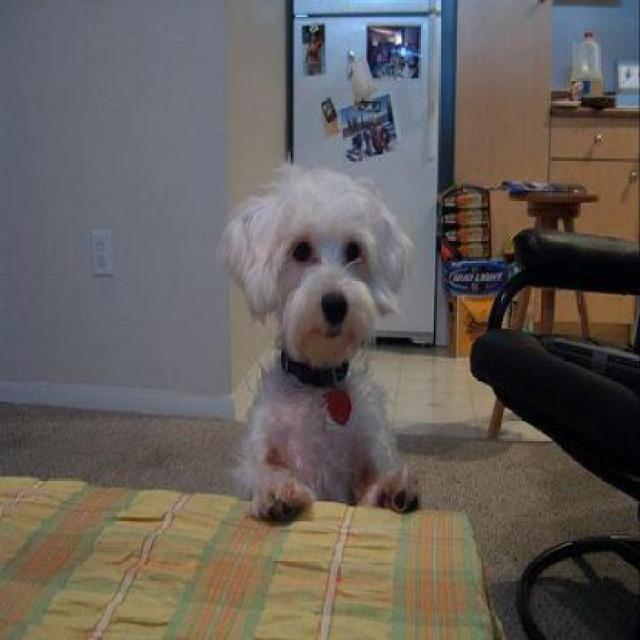Dog: (208, 155, 430, 537)
